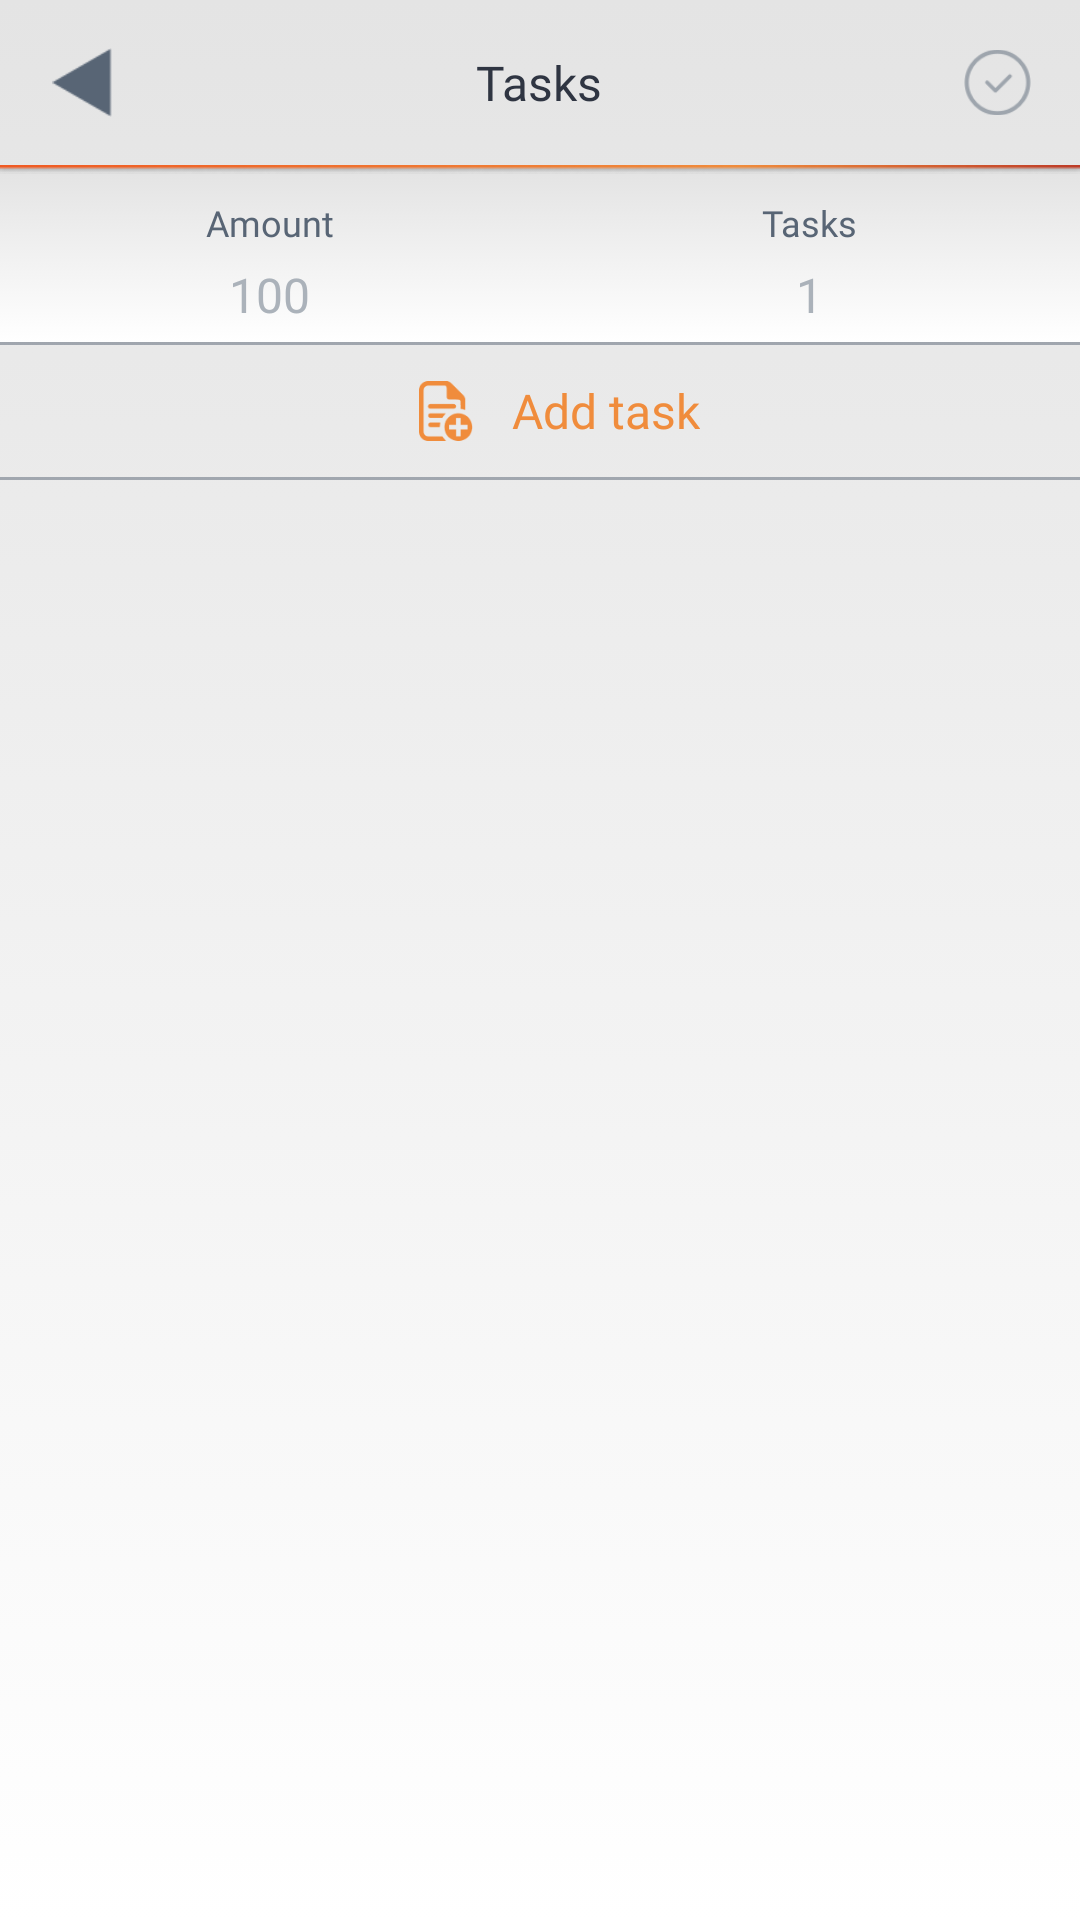

Point at icon controls on the screen. Image size 1080 x 1920, points as [x,y].
setting back: [81,82]
setting save: [997,82]
